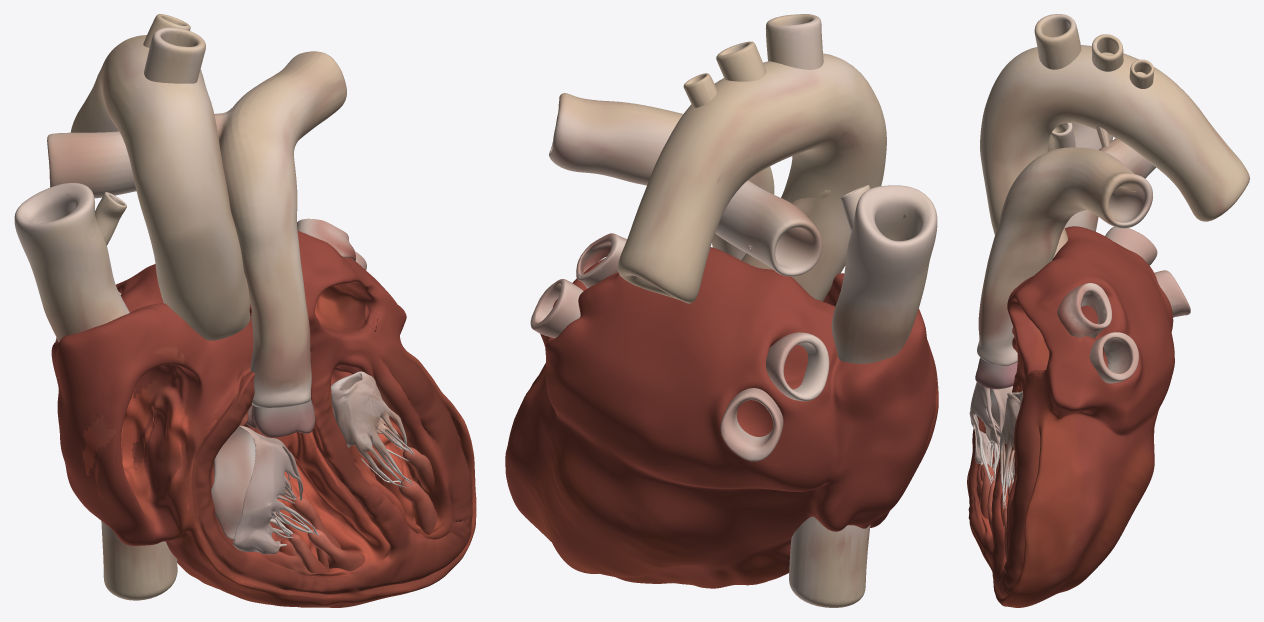
Rendered from heart.glb.
The picture shows the model from 3 angles, left to right: view 1: azimuth 30°, elevation 25°; view 2: azimuth 150°, elevation 25°; view 3: azimuth 270°, elevation 25°; orthographic projection. The views are drawn at different scales.
Parts seen in each view (by area): view 1: heart body, Aorta, plmonary trunk, vena cava, tricuspid valve, mitral-bicuspid valve, papillary muscles, Pulmonary Valve, plmonary vien lt; view 2: heart body, Aorta, vena cava, plmonary trunk, plmonary vien rt, plmonary vien lt; view 3: heart body, Aorta, plmonary trunk, plmonary vien lt, tricuspid valve, plmonary vien rt, vena cava, mitral-bicuspid valve, Pulmonary Valve, papillary muscles.
Part boxes in pixels (x1,y1,x2,y2): heart body: (51,231,476,607); Aorta: (70,14,250,340); plmonary trunk: (47,51,346,407); vena cava: (14,183,177,600); tricuspid valve: (211,425,319,558); mitral-bicuspid valve: (331,371,413,487); papillary muscles: (279,447,437,576); Pulmonary Valve: (246,399,315,437); plmonary vien lt: (297,218,366,270); heart body: (505,247,938,588); Aorta: (617,14,886,303); vena cava: (789,185,937,607); plmonary trunk: (549,93,822,276); plmonary vien rt: (720,332,829,461); plmonary vien lt: (530,233,626,338); heart body: (967,226,1174,607); Aorta: (980,14,1249,257); plmonary trunk: (977,138,1155,365); plmonary vien lt: (1057,283,1138,383); tricuspid valve: (969,382,1012,484); plmonary vien rt: (1105,226,1190,317); vena cava: (1048,123,1112,231); mitral-bicuspid valve: (1000,391,1023,527); Pulmonary Valve: (975,357,1017,389); papillary muscles: (980,463,1012,560).
Size of the model in its own units: 7.1 by 9.52 by 4.89.
9 materials, 4 textured.
